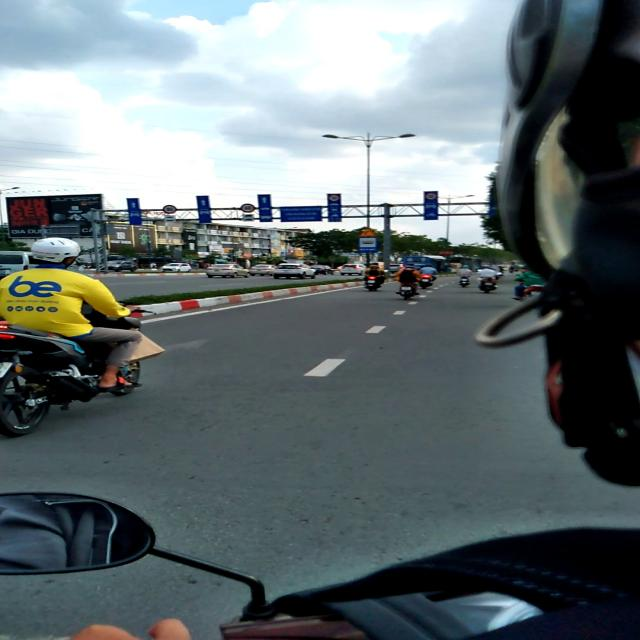P.127: (240, 203, 255, 213), (162, 205, 178, 214), (424, 192, 437, 200), (328, 194, 340, 202)
R.434: (358, 237, 377, 252)
W.201b: (359, 228, 377, 236)
